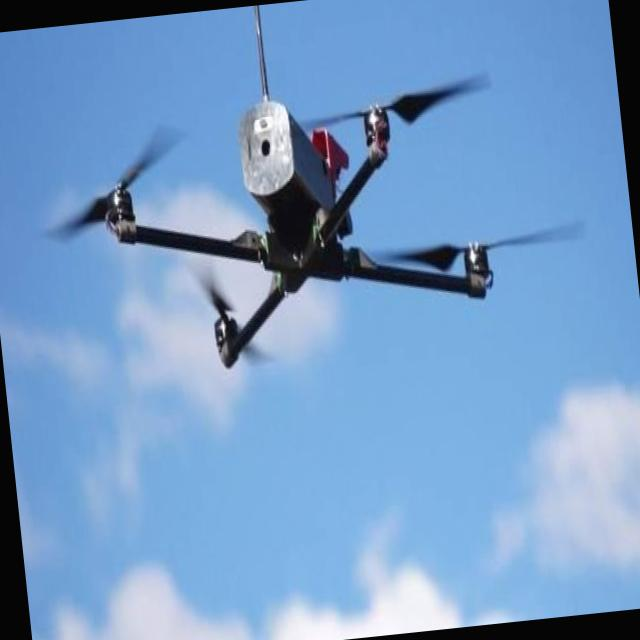drone: (91, 72, 503, 382)
